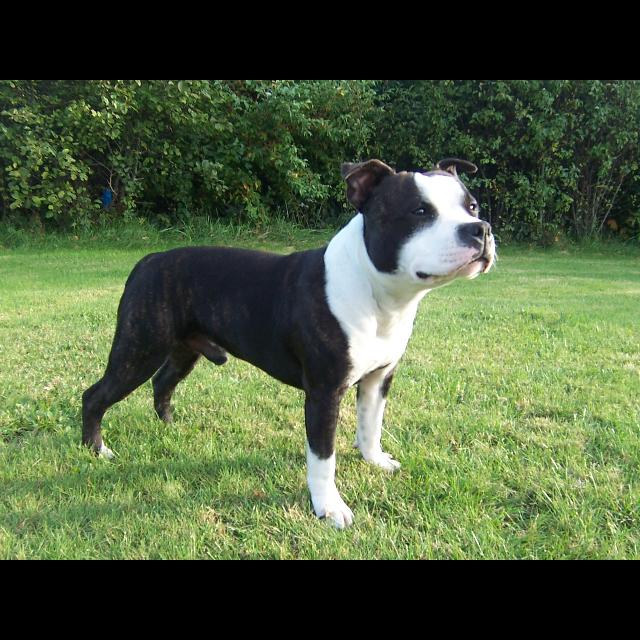amstaff: (81, 158, 499, 531)
